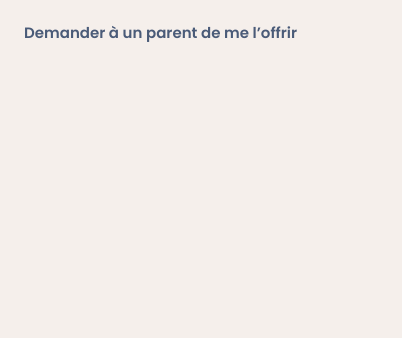
Test case: demander à un parent, par message › sur téléphone : le lien part par la feuille de partage, et la demande est mesurée
Click the button "Demander à un parent de me l’offrir". click: click(160, 32)
box: x1=12 y1=12 x2=309 y2=52
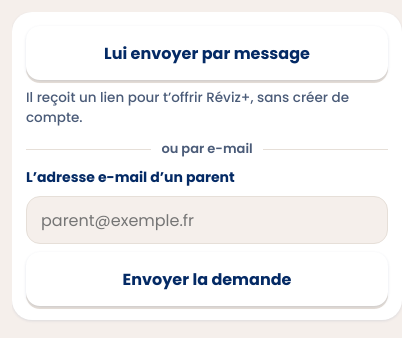
Click the button "Lui envoyer par message". click: click(207, 53)
box: x1=26 y1=26 x2=388 y2=80
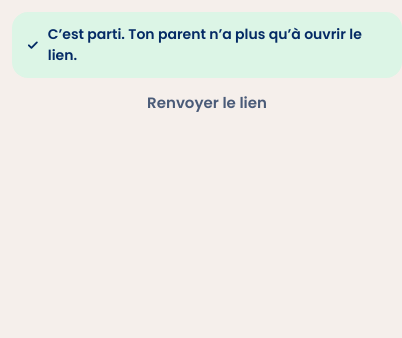
Now the text "C’est parti. Ton parent n’a plus qu’à ouvrir le lien." is shown, box x1=12 y1=12 x2=401 y2=78
